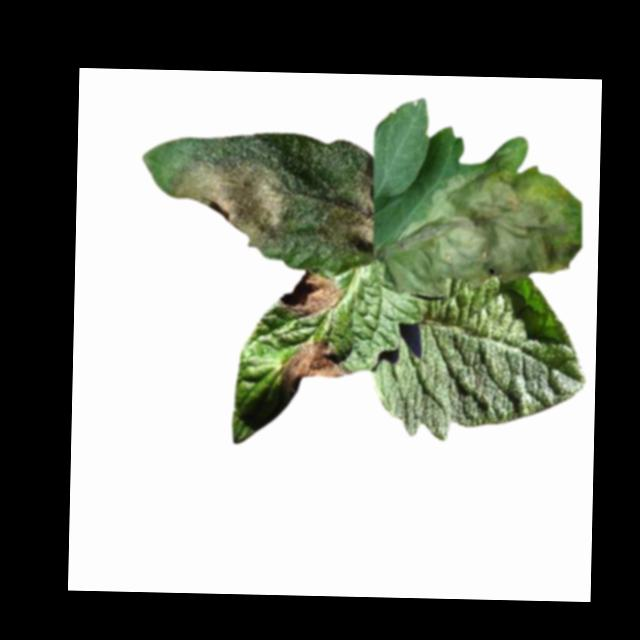Late_blight: (385, 134, 584, 296), (166, 132, 292, 253), (317, 150, 375, 256), (277, 338, 352, 396), (274, 269, 346, 323)
